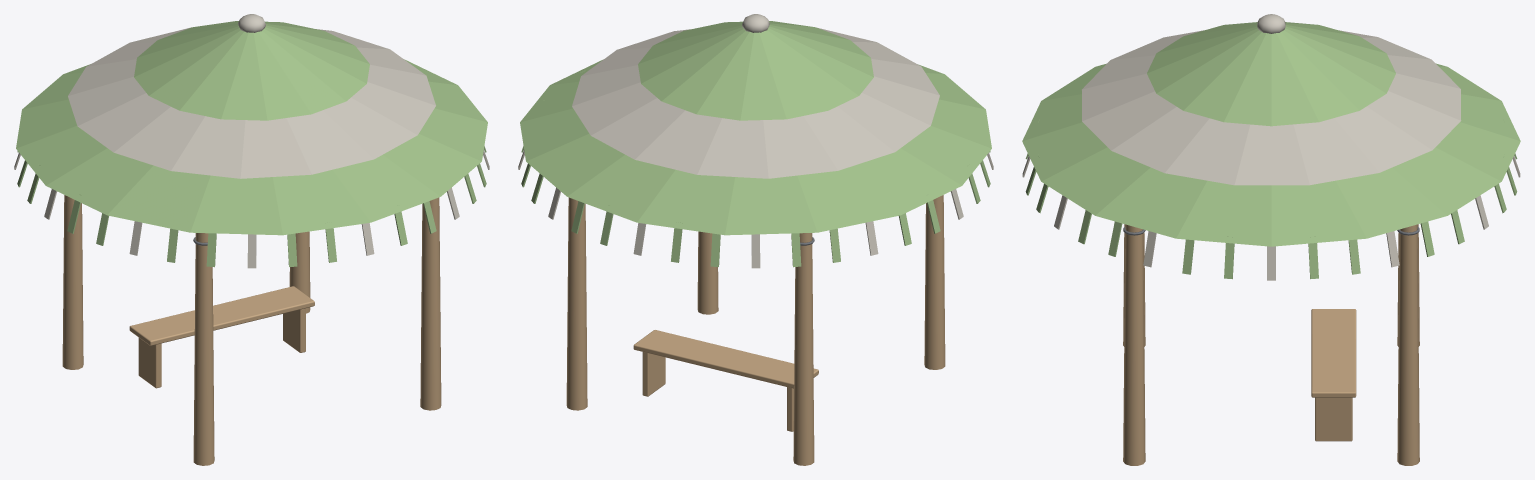
Rendered from beach-surf-and-paddle-kit-palm-shade-shelter-b91a6960__39435.glb.
3 views of the same model, side by side, from view 1: azimuth 30°, elevation 25°; view 2: azimuth 150°, elevation 25°; view 3: azimuth 270°, elevation 25° (orthographic). The views are drawn at different scales.
Parts seen in each view (by area): view 1: palm-shade-shelter-grass, palm-shade-shelter-drift, palm-shade-shelter-timber; view 2: palm-shade-shelter-grass, palm-shade-shelter-drift, palm-shade-shelter-timber; view 3: palm-shade-shelter-grass, palm-shade-shelter-drift, palm-shade-shelter-timber.
Boxes of the visible parts, bbox=[...] form: palm-shade-shelter-grass: bbox=[16, 21, 487, 267]; palm-shade-shelter-drift: bbox=[14, 14, 489, 268]; palm-shade-shelter-timber: bbox=[62, 195, 441, 465]; palm-shade-shelter-grass: bbox=[520, 21, 991, 267]; palm-shade-shelter-drift: bbox=[518, 14, 993, 268]; palm-shade-shelter-timber: bbox=[566, 195, 945, 465]; palm-shade-shelter-grass: bbox=[1022, 22, 1520, 279]; palm-shade-shelter-drift: bbox=[1022, 14, 1520, 280]; palm-shade-shelter-timber: bbox=[1123, 224, 1419, 465].
Bounding box in the file's own units: 4 × 3.43 × 4.
